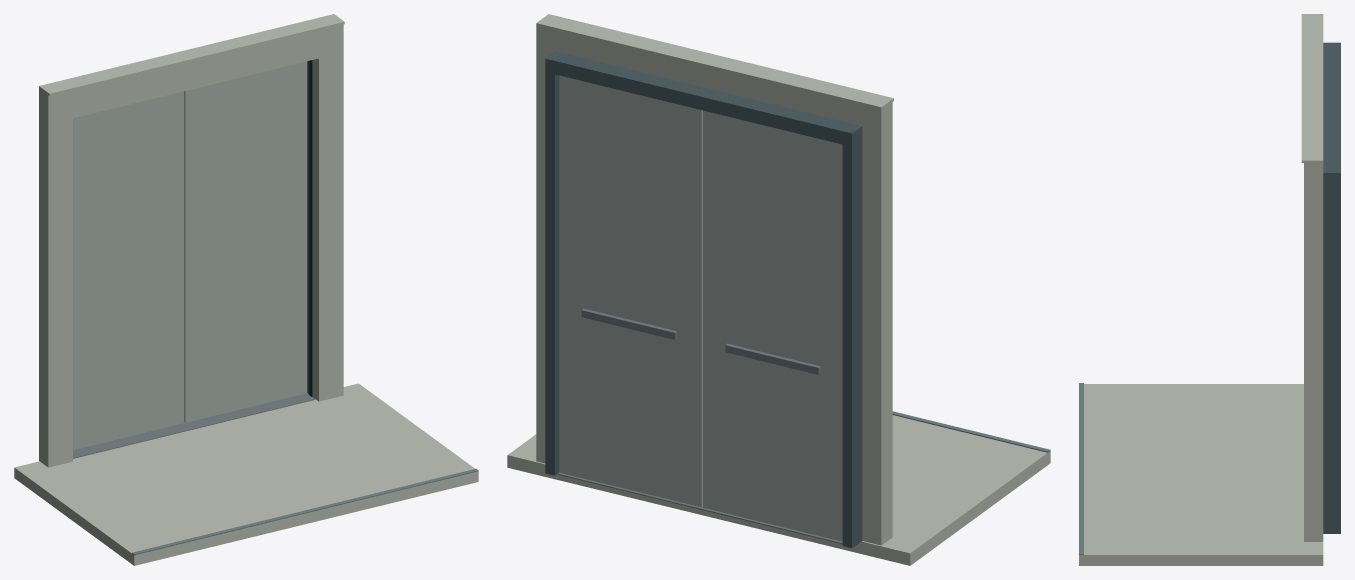
3 renders of one model, left to right at view 1: azimuth 30°, elevation 25°; view 2: azimuth 150°, elevation 25°; view 3: azimuth 270°, elevation 25°, orthographic. The views are drawn at different scales.
Visible parts, largest first — view 1: EN-A_ExteriorTransition, EN-A_Leaf_02, EN-A_Leaf_01, EN-A_Portal_L, EN-A_Portal_R, EN-A_Portal_T, EN-A_Threshold, EN-A_DrainReturn, EN-A_SealR, EN-A_DripReturn, EN-A_FrameR; view 2: EN-A_Leaf_02, EN-A_Leaf_01, EN-A_ExteriorTransition, EN-A_Portal_L, EN-A_Portal_T, EN-A_FrameL, EN-A_Head, EN-A_FrameR, EN-A_Portal_R, EN-A_Release_02, EN-A_Release_01, EN-A_Threshold (+2 smaller); view 3: EN-A_ExteriorTransition, EN-A_Portal_R, EN-A_FrameR, EN-A_Portal_T, EN-A_Head, EN-A_DrainReturn, EN-A_DripReturn.
Part boxes in pixels (left/top/right/bottom): EN-A_ExteriorTransition: left=14, top=383, right=478, bottom=565; EN-A_Leaf_02: left=184, top=61, right=307, bottom=422; EN-A_Leaf_01: left=73, top=91, right=184, bottom=450; EN-A_Portal_L: left=39, top=80, right=72, bottom=467; EN-A_Portal_R: left=310, top=14, right=343, bottom=401; EN-A_Portal_T: left=39, top=14, right=343, bottom=121; EN-A_Threshold: left=73, top=393, right=315, bottom=458; EN-A_DrainReturn: left=132, top=468, right=478, bottom=555; EN-A_SealR: left=309, top=60, right=312, bottom=396; EN-A_DripReturn: left=48, top=21, right=344, bottom=96; EN-A_FrameR: left=307, top=61, right=309, bottom=393; EN-A_Leaf_02: left=559, top=75, right=702, bottom=507; EN-A_Leaf_01: left=703, top=110, right=842, bottom=541; EN-A_ExteriorTransition: left=507, top=415, right=1050, bottom=565; EN-A_Portal_L: left=852, top=92, right=892, bottom=545; EN-A_Portal_T: left=536, top=15, right=892, bottom=142; EN-A_FrameL: left=842, top=140, right=862, bottom=548; EN-A_Head: left=545, top=51, right=862, bottom=146; EN-A_FrameR: left=545, top=72, right=559, bottom=475; EN-A_Portal_R: left=536, top=15, right=575, bottom=463; EN-A_Release_02: left=581, top=308, right=677, bottom=339; EN-A_Release_01: left=725, top=343, right=820, bottom=374; EN-A_Threshold: left=557, top=472, right=842, bottom=544; EN-A_ExteriorTransition: left=1079, top=384, right=1323, bottom=565; EN-A_Portal_R: left=1304, top=148, right=1323, bottom=541; EN-A_FrameR: left=1323, top=184, right=1340, bottom=533; EN-A_Portal_T: left=1304, top=14, right=1323, bottom=192; EN-A_Head: left=1323, top=42, right=1340, bottom=184; EN-A_DrainReturn: left=1079, top=383, right=1083, bottom=554; EN-A_DripReturn: left=1301, top=14, right=1303, bottom=162.
Size of the model in its own units: 2.52 by 2.7 by 1.63.
